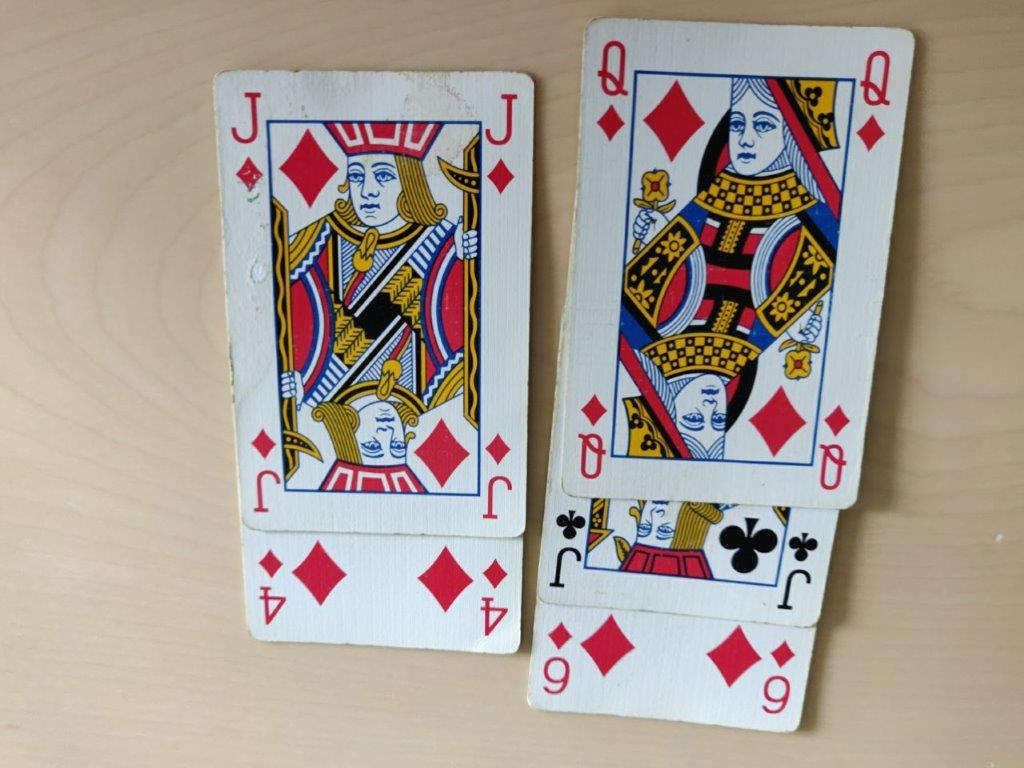JD: (225, 80, 268, 198), (481, 88, 524, 206)
QD: (586, 36, 637, 145), (848, 44, 899, 153)
